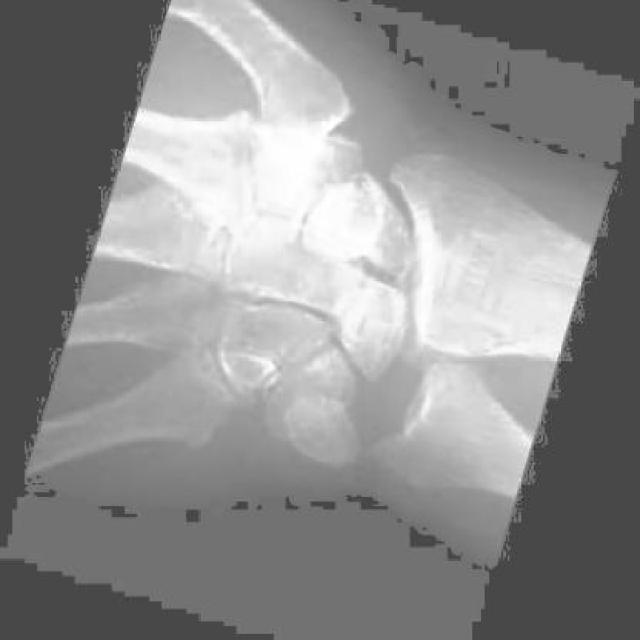Fracture: (198, 331, 291, 407)
